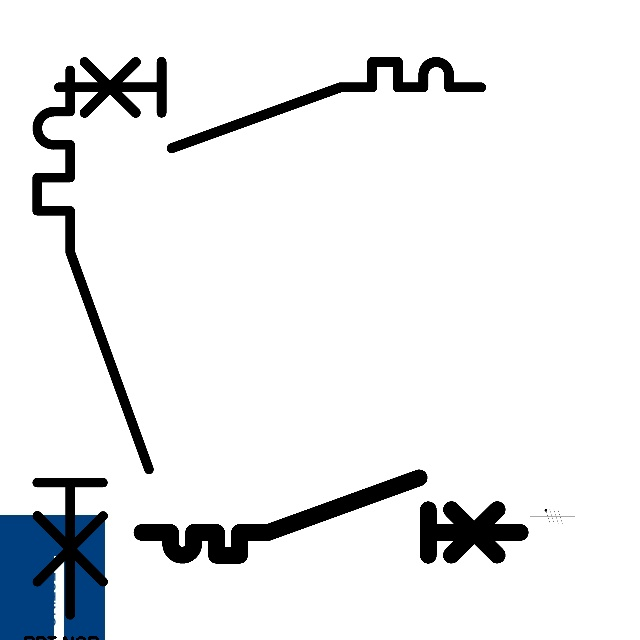interruptor_termomagnetico: (23, 56, 163, 629), (48, 51, 492, 159), (132, 468, 529, 565)
